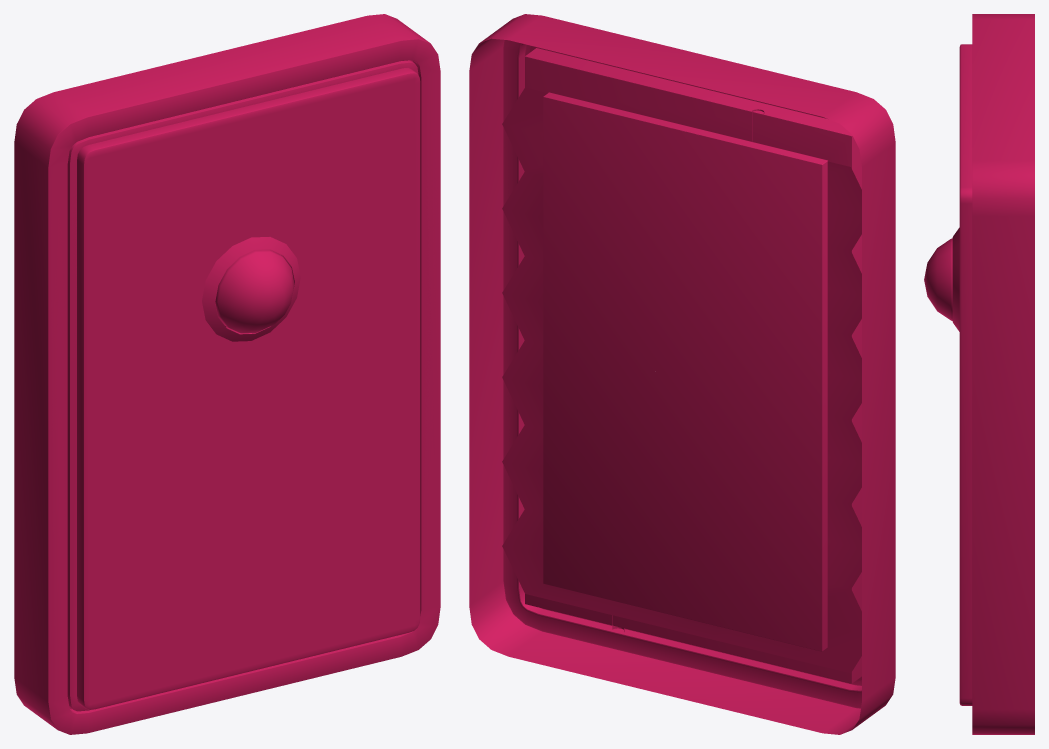
The model's file is SM_DoorLock.fbx.
3 renders of one model, left to right at view 1: azimuth 30°, elevation 25°; view 2: azimuth 150°, elevation 25°; view 3: azimuth 270°, elevation 25°, orthographic. The views are drawn at different scales.
Parts seen in each view (by area): view 1: DoorLock_Lid_lp, DoorLock_Back_lp, DoorLock_Front_lp; view 2: DoorLock_Back_lp, DoorLock_Front_lp; view 3: DoorLock_Back_lp, DoorLock_Lid_lp, DoorLock_Front_lp.
Part boxes in pixels (<box>): DoorLock_Lid_lp: <box>77,68,420,709</box>; DoorLock_Back_lp: <box>14,14,440,734</box>; DoorLock_Front_lp: <box>49,41,439,733</box>; DoorLock_Back_lp: <box>470,14,895,734</box>; DoorLock_Front_lp: <box>469,38,861,734</box>; DoorLock_Back_lp: <box>972,14,1034,734</box>; DoorLock_Lid_lp: <box>959,44,972,705</box>; DoorLock_Front_lp: <box>924,227,959,331</box>.
Bounding box in the file's own units: 3.37 × 5.06 × 0.894.
